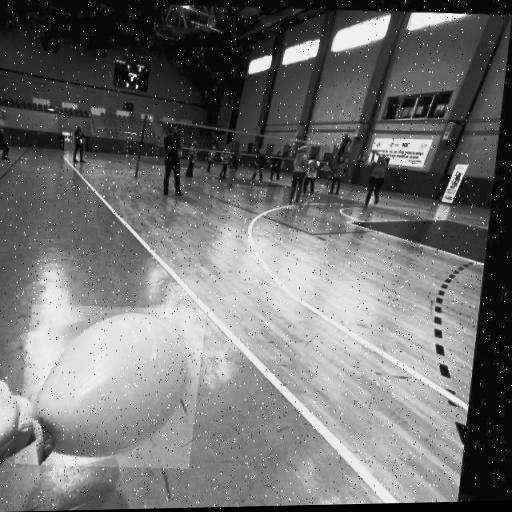balloon: (26, 300, 214, 470)
